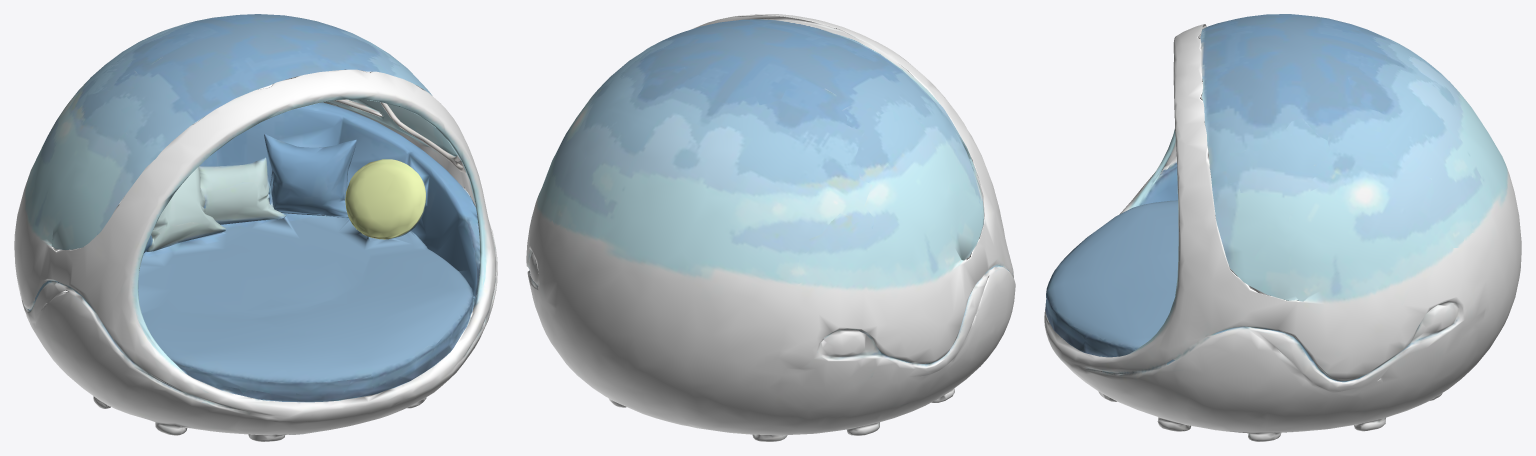
The model's file is dome-sofa.glb.
The picture shows the model from 3 angles, left to right: view 1: azimuth 30°, elevation 25°; view 2: azimuth 150°, elevation 25°; view 3: azimuth 270°, elevation 25°; orthographic projection.
Parts seen in each view (by area): view 1: world; view 2: world; view 3: world.
Part boxes in pixels (box(x1,y1,x2,y2)): world: box(14, 14, 497, 441); world: box(526, 14, 1015, 441); world: box(1044, 14, 1521, 441).
Bounding box in the file's own units: 1 × 0.7405 × 0.9957.
1 material, 1 textured.
